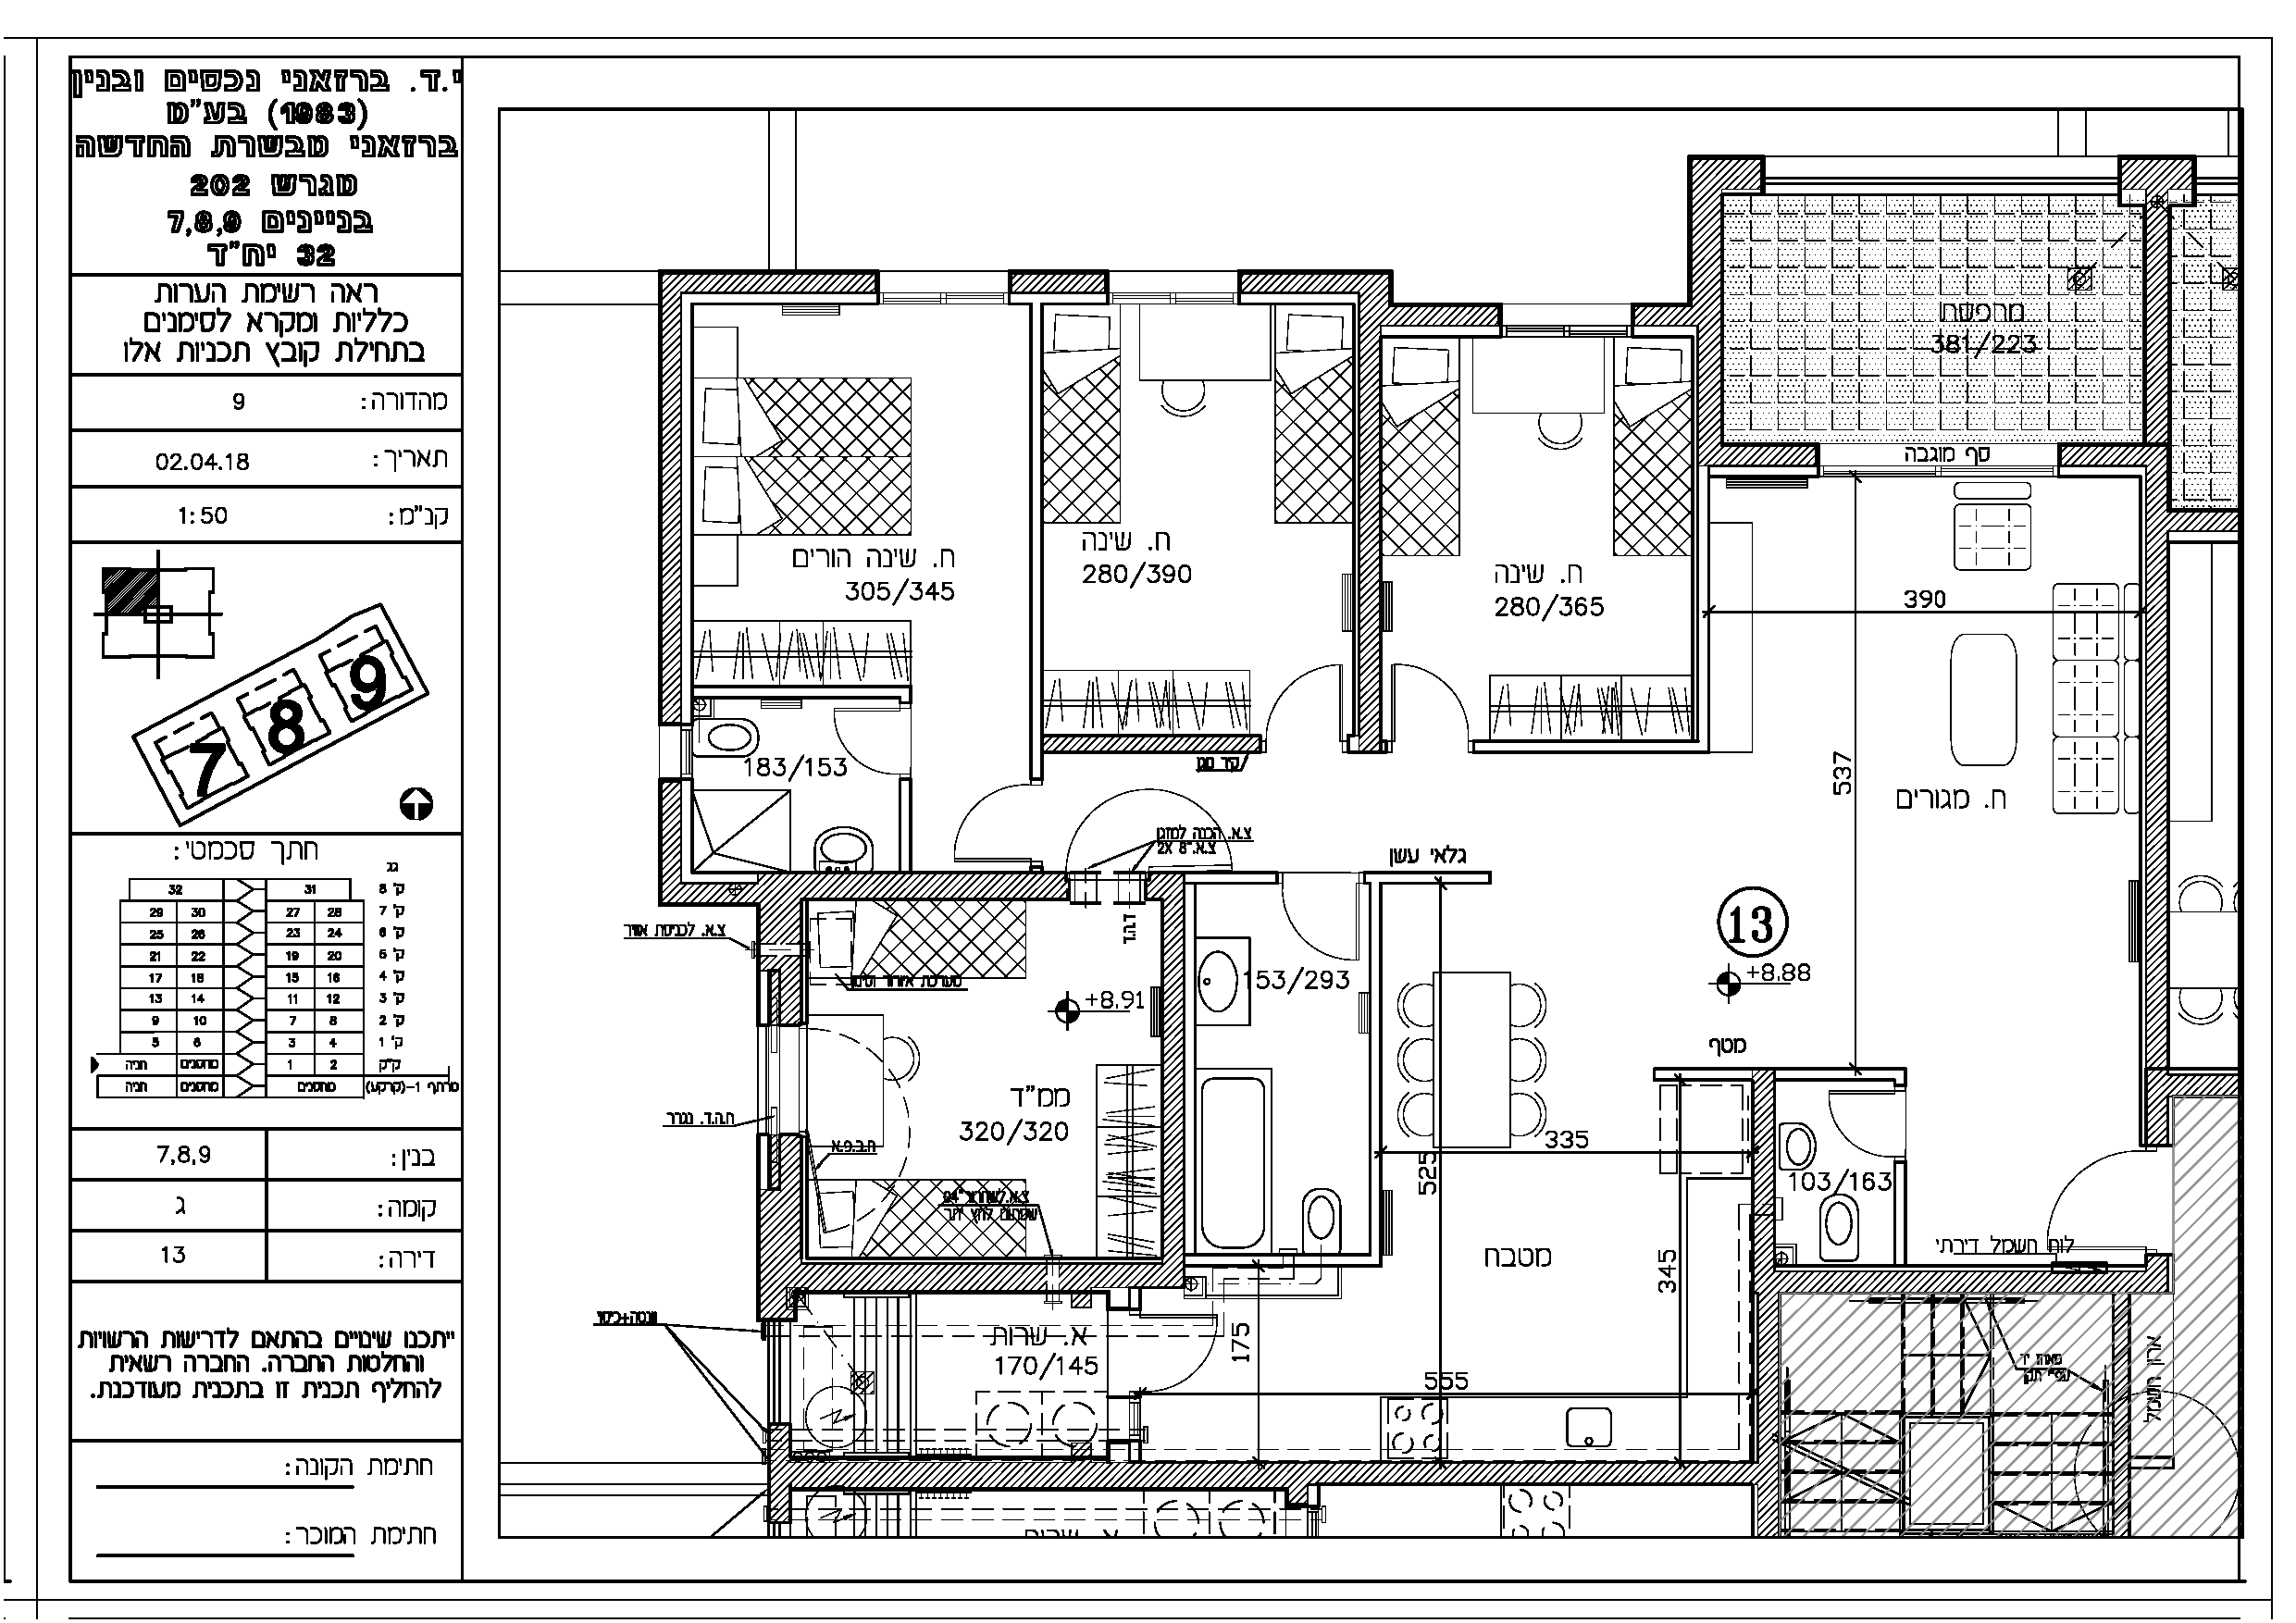door: (2027, 1142, 2138, 1252), (931, 778, 1024, 866), (1270, 892, 1367, 970), (1386, 653, 1470, 734), (1256, 657, 1349, 729), (1145, 1307, 1219, 1386), (824, 703, 894, 782), (1823, 1086, 1887, 1159)
wall: (791, 1465, 1746, 1484), (2148, 448, 2166, 1057), (1163, 884, 1184, 1244), (1764, 1273, 2148, 1293), (792, 1263, 1040, 1289), (664, 279, 678, 696), (762, 876, 1054, 896), (1699, 163, 1720, 423), (2148, 211, 2164, 439), (666, 274, 866, 290), (662, 790, 680, 901)
window: (1822, 439, 2062, 481), (1500, 297, 1635, 346), (1108, 260, 1242, 309), (878, 260, 1012, 309), (653, 722, 694, 782)
